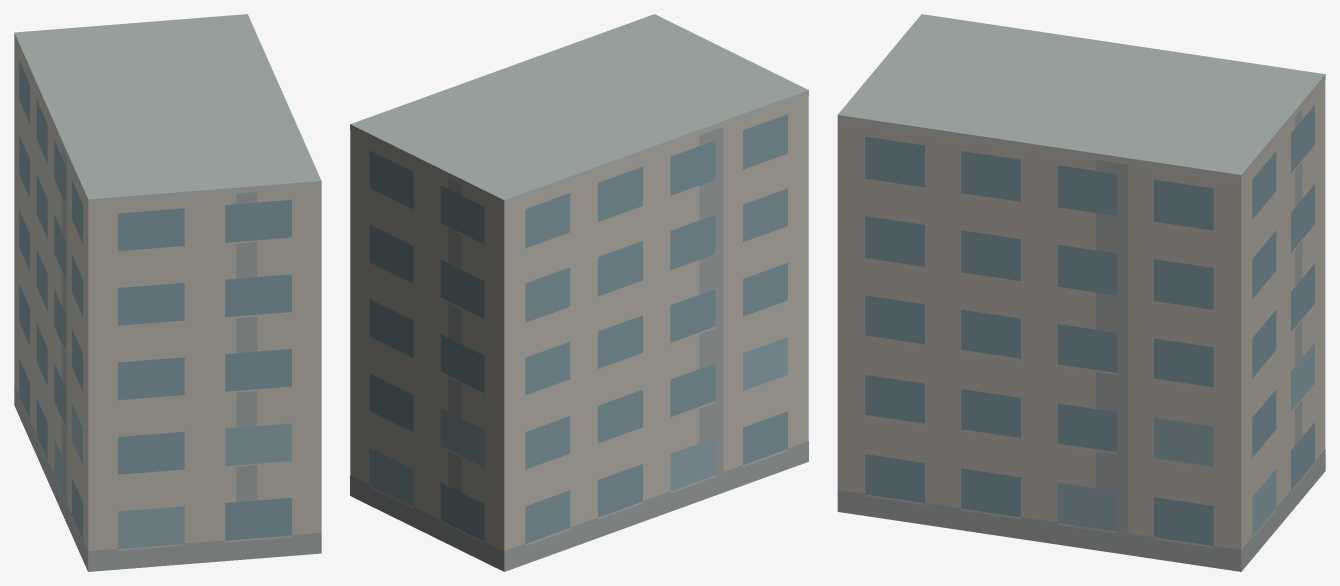
Rendered from residential-c2ef1557-c65c-4ac2-b8f6-ff1e3d83b893.glb.
The picture shows the model from 3 angles, left to right: view 1: azimuth 30°, elevation 25°; view 2: azimuth 150°, elevation 25°; view 3: azimuth 270°, elevation 25°; orthographic projection. The views are drawn at different scales.
Parts seen in each view (by area): view 1: residential-c2ef1557-c65c-4ac2-b8f6-ff1e3d83b893.tmp; view 2: residential-c2ef1557-c65c-4ac2-b8f6-ff1e3d83b893.tmp; view 3: residential-c2ef1557-c65c-4ac2-b8f6-ff1e3d83b893.tmp.
Boxes of the visible parts, box(x1,y1,x2,y2) form: residential-c2ef1557-c65c-4ac2-b8f6-ff1e3d83b893.tmp: box(14, 14, 321, 571); residential-c2ef1557-c65c-4ac2-b8f6-ff1e3d83b893.tmp: box(350, 14, 808, 571); residential-c2ef1557-c65c-4ac2-b8f6-ff1e3d83b893.tmp: box(837, 14, 1325, 571).
Size of the model in its own units: 13.28 by 15.25 by 17.
